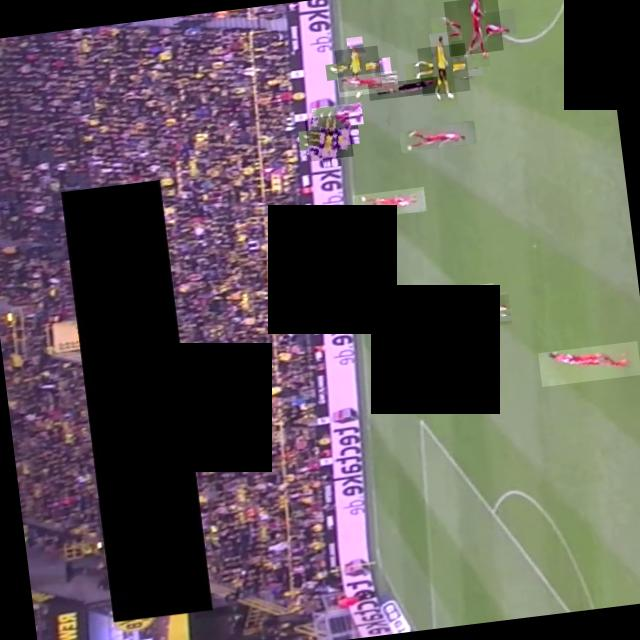referee: (368, 75, 438, 99)
soccer-player: (537, 339, 640, 385), (425, 293, 512, 333), (443, 0, 503, 55), (416, 42, 469, 94), (398, 119, 477, 152), (352, 185, 426, 218), (304, 112, 353, 160), (334, 44, 382, 91), (426, 282, 496, 314), (336, 69, 398, 96), (311, 100, 363, 130)
